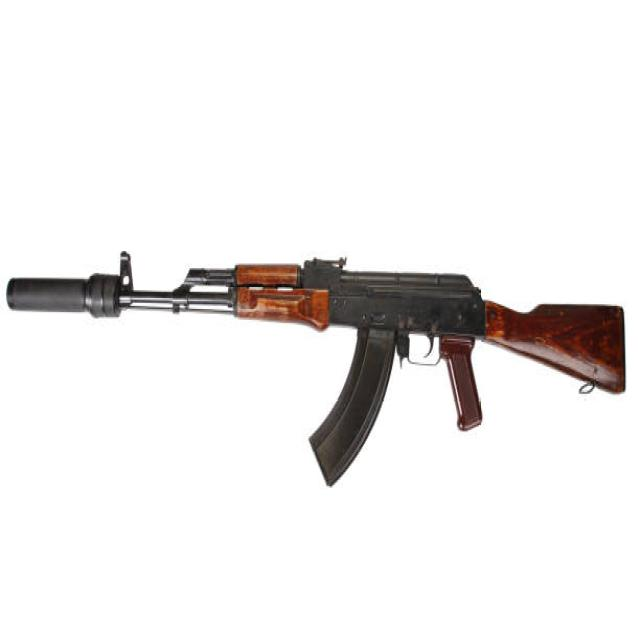rifle: (1, 235, 627, 494)
